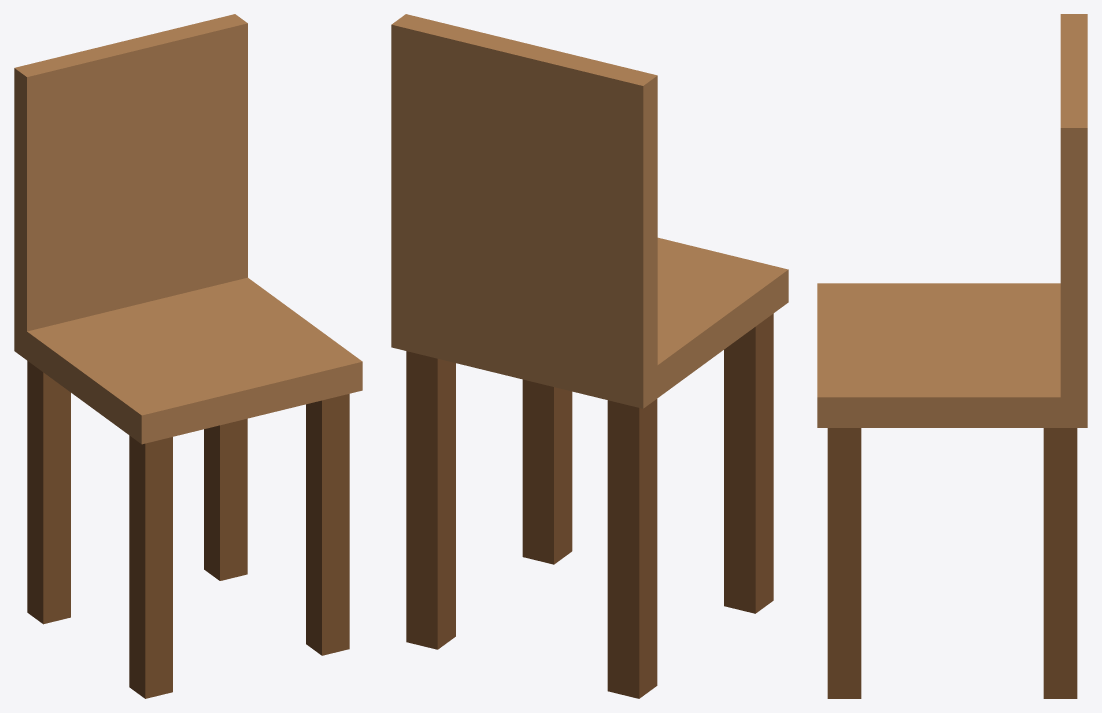
File: chair.glb
3 renders of one model, left to right at view 1: azimuth 30°, elevation 25°; view 2: azimuth 150°, elevation 25°; view 3: azimuth 270°, elevation 25°, orthographic. The views are drawn at different scales.
Parts seen in each view (by area): view 1: chair; view 2: chair; view 3: chair.
Part boxes in pixels (x1,y1,x2,y2): chair: [14, 14, 362, 698]; chair: [391, 14, 788, 698]; chair: [817, 14, 1087, 698].
Size of the model in its own units: 0.4 by 0.94 by 0.4.
Materials: 1 (1 with a texture image).
